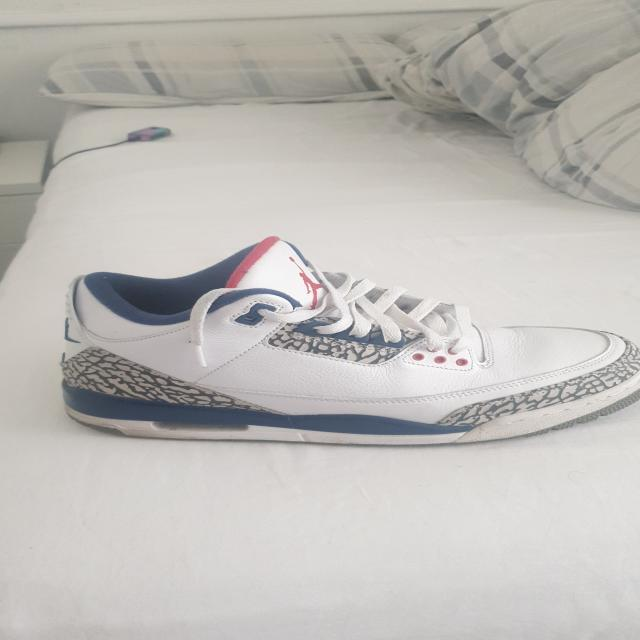shoes: (54, 234, 640, 448)
